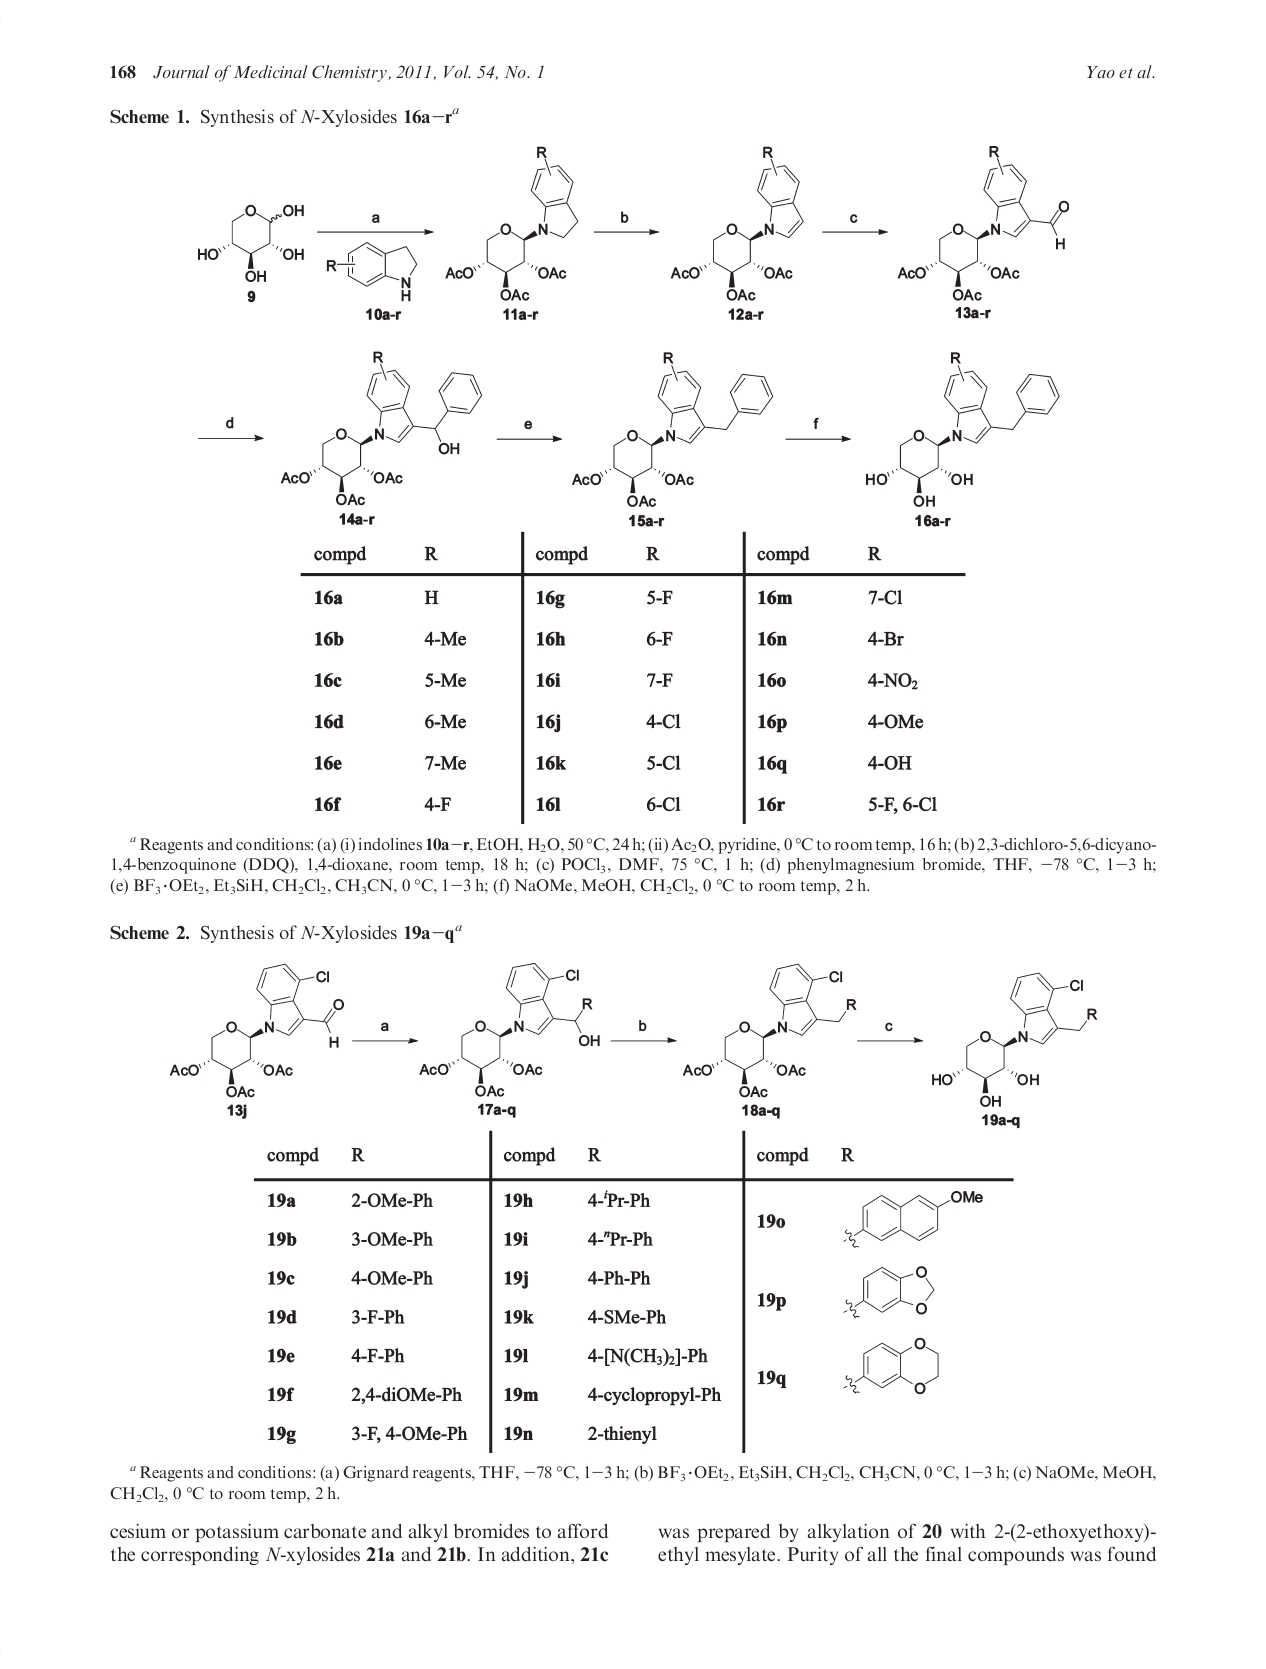exist_molecular: (278, 347, 484, 507), (570, 350, 775, 507), (864, 347, 1061, 507), (895, 142, 1073, 302), (418, 960, 604, 1098), (682, 962, 858, 1100), (168, 962, 344, 1098), (927, 969, 1097, 1110), (442, 144, 580, 306), (668, 144, 805, 305), (195, 199, 310, 285), (836, 1189, 985, 1250), (324, 239, 418, 309), (840, 1335, 944, 1396), (839, 1262, 935, 1321)
